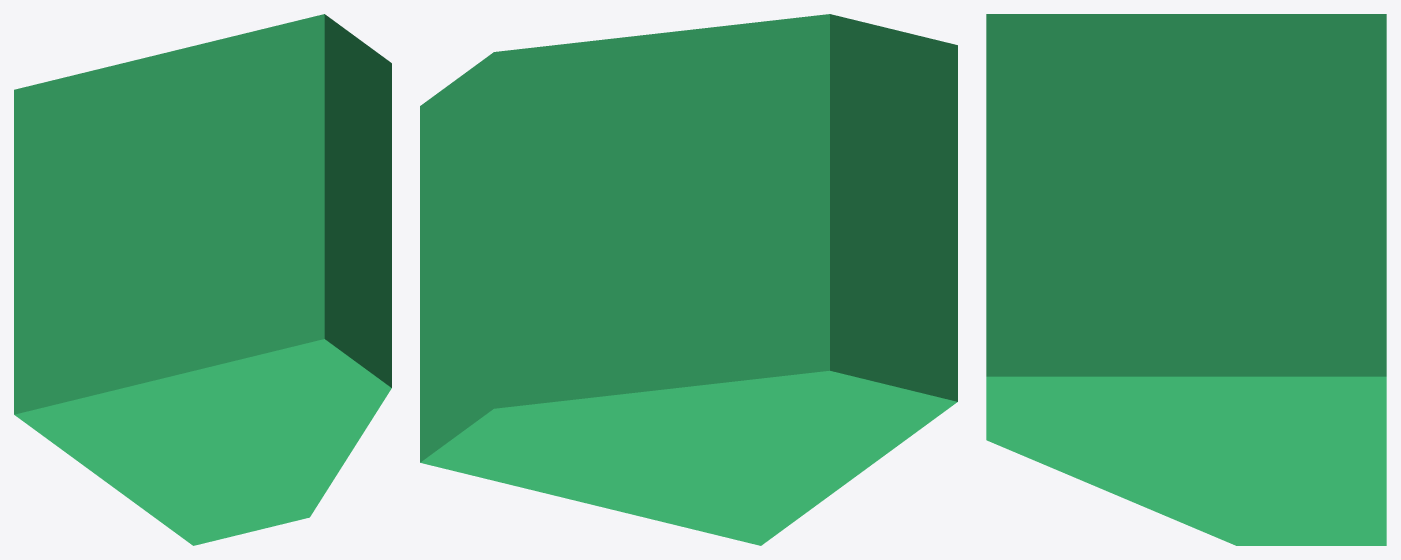
File: r3c8_border_green.gltf
The picture shows the model from 3 angles, left to right: view 1: azimuth 30°, elevation 25°; view 2: azimuth 150°, elevation 25°; view 3: azimuth 270°, elevation 25°; orthographic projection. The views are drawn at different scales.
Parts seen in each view (by area): view 1: r3c8_border_green; view 2: r3c8_border_green; view 3: r3c8_border_green.
Boxes of the visible parts, x1=… form: r3c8_border_green: x1=14, y1=14, x2=391, y2=545; r3c8_border_green: x1=420, y1=14, x2=957, y2=545; r3c8_border_green: x1=986, y1=14, x2=1386, y2=545.
Size of the model in its own units: 2.1 by 2.1 by 2.1.
1 material, 1 textured.
